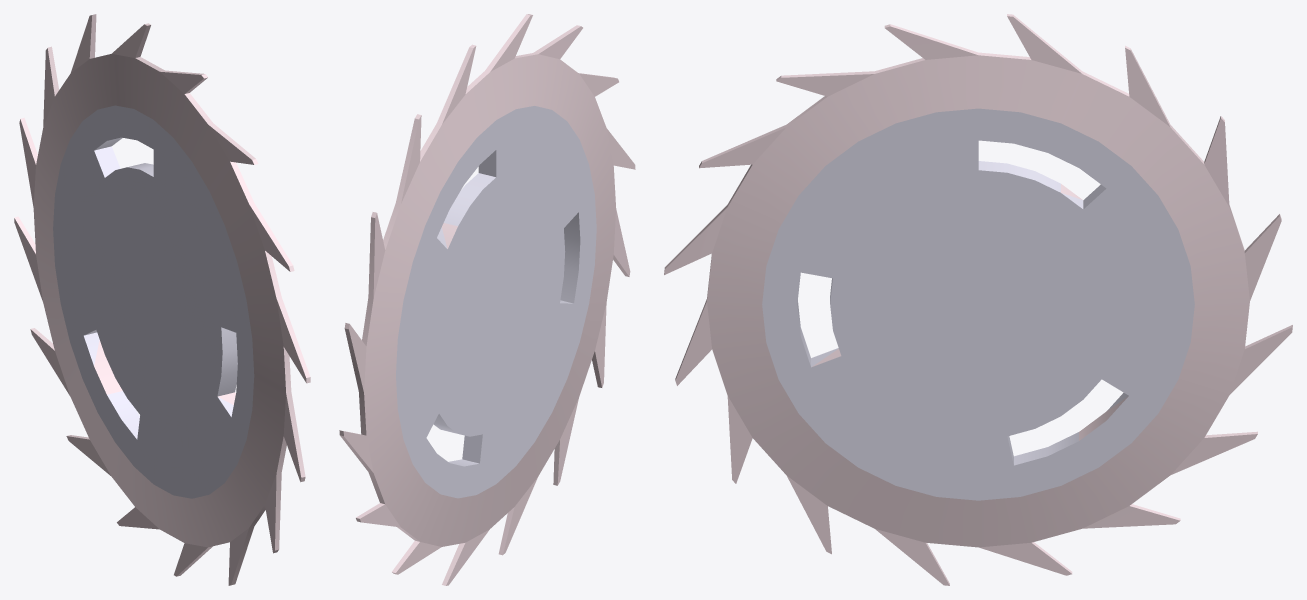
Rendered from SawBlade1.fbx.
3 views of the same model, side by side, from view 1: azimuth 30°, elevation 25°; view 2: azimuth 150°, elevation 25°; view 3: azimuth 270°, elevation 25° (orthographic). The views are drawn at different scales.
Parts seen in each view (by area): view 1: Cylinder; view 2: Cylinder; view 3: Cylinder.
Boxes of the visible parts, x1=… form: Cylinder: x1=14, y1=14, x2=310, y2=585; Cylinder: x1=339, y1=14, x2=635, y2=585; Cylinder: x1=664, y1=14, x2=1292, y2=585.
Size of the model in its own units: 8.08 by 232 by 232.
